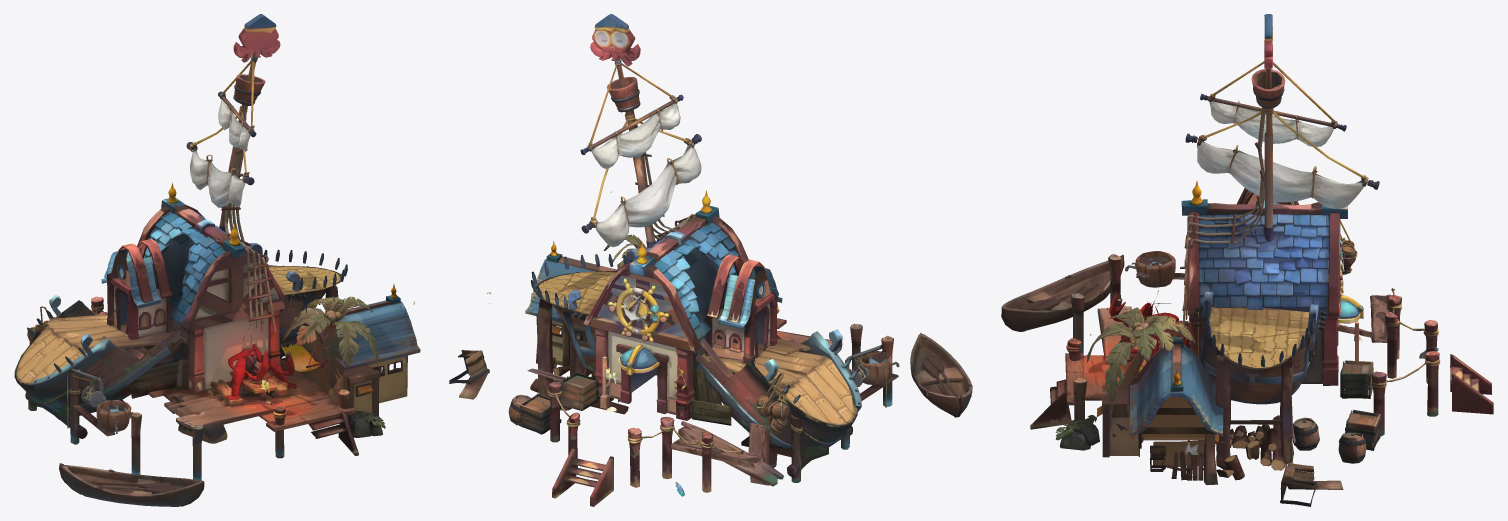
File: sea_house.glb
3 views of the same model, side by side, from view 1: azimuth 30°, elevation 25°; view 2: azimuth 150°, elevation 25°; view 3: azimuth 270°, elevation 25° (orthographic). The views are drawn at different scales.
Size of the model in its own units: 235 by 211 by 218.
2 materials, 2 textured.
